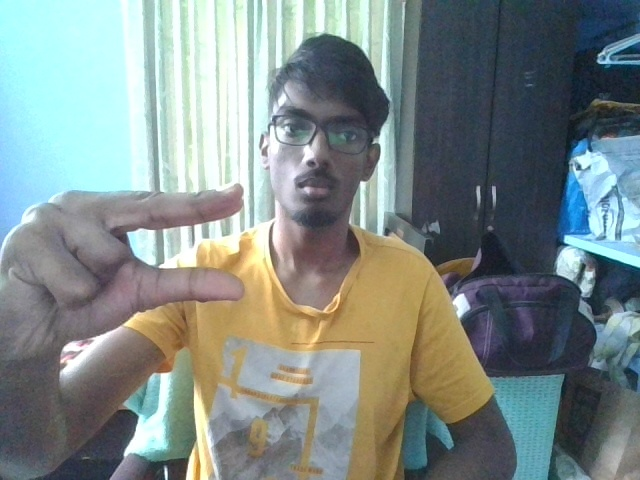No: (6, 178, 252, 332)
